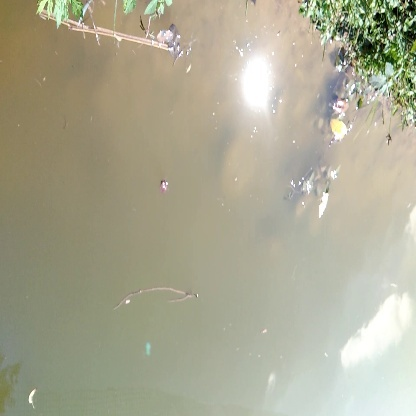branch: (45, 11, 186, 61), (108, 283, 208, 315)
